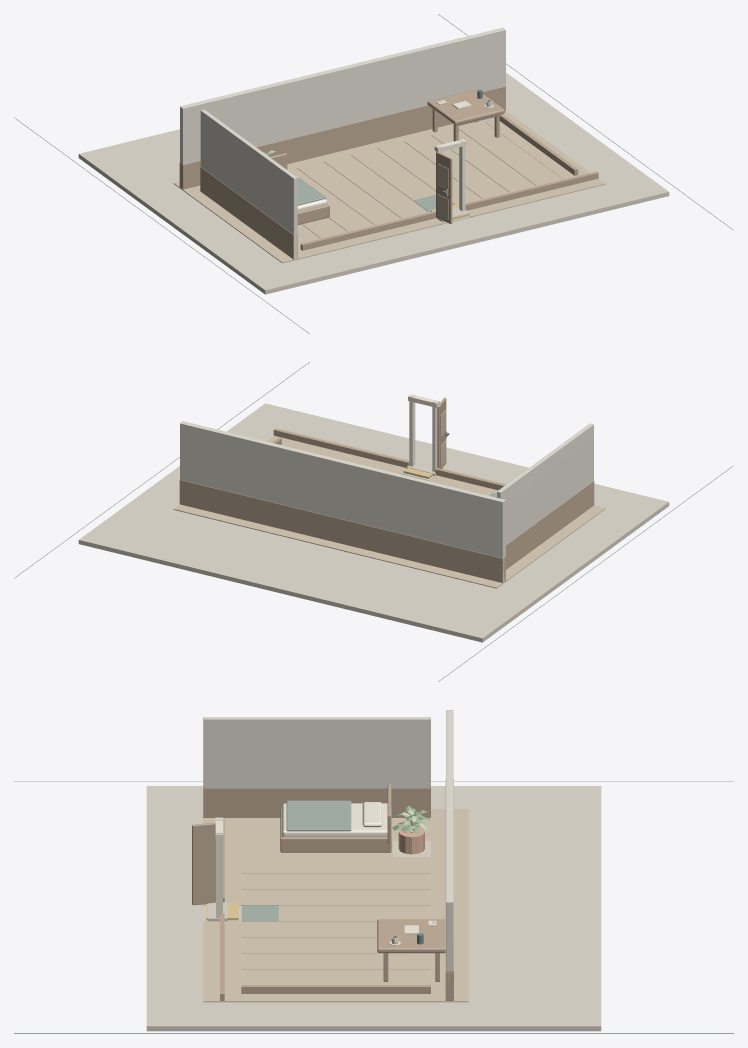
Rendered from room.glb.
3 renders of one model, top to bottom at view 1: azimuth 30°, elevation 25°; view 2: azimuth 150°, elevation 25°; view 3: azimuth 270°, elevation 25°, orthographic. The views are drawn at different scales.
Parts seen in each view (by area): view 1: Campaign_stone, Campaign_plaster, Campaign_floor, Campaign_wood, Campaign_cream, Campaign_metal, Campaign_cloth; view 2: Campaign_stone, Campaign_plaster, Campaign_wood, Campaign_floor, Campaign_cream, Campaign_metal; view 3: Campaign_stone, Campaign_floor, Campaign_plaster, Campaign_wood, Campaign_cream, Campaign_cloth, Campaign_metal, Campaign_terra, Campaign_leaf_leaf_light.
Boxes of the visible parts, left/top/right/bottom form: Campaign_stone: left=78, top=72, right=669, bottom=294; Campaign_plaster: left=180, top=27, right=505, bottom=259; Campaign_floor: left=173, top=111, right=605, bottom=263; Campaign_wood: left=179, top=86, right=598, bottom=259; Campaign_cream: left=297, top=100, right=493, bottom=212; Campaign_metal: left=14, top=14, right=733, bottom=333; Campaign_cloth: left=297, top=178, right=453, bottom=211; Campaign_stone: left=78, top=403, right=669, bottom=642; Campaign_plaster: left=180, top=421, right=593, bottom=582; Campaign_wood: left=179, top=397, right=594, bottom=582; Campaign_floor: left=173, top=409, right=605, bottom=588; Campaign_cream: left=408, top=394, right=439, bottom=471; Campaign_metal: left=14, top=362, right=733, bottom=681; Campaign_stone: left=146, top=786, right=601, bottom=1031; Campaign_floor: left=203, top=809, right=468, bottom=1002; Campaign_plaster: left=203, top=710, right=453, bottom=994; Campaign_wood: left=192, top=779, right=453, bottom=1000; Campaign_cream: left=215, top=802, right=436, bottom=945; Campaign_cloth: left=241, top=800, right=351, bottom=921; Campaign_metal: left=14, top=781, right=733, bottom=1033; Campaign_terra: left=398, top=827, right=424, bottom=854; Campaign_leaf_leaf_light: left=392, top=805, right=430, bottom=834.
Size of what is drawn, in the model's own units: 12.62 by 2.45 by 15.2.
